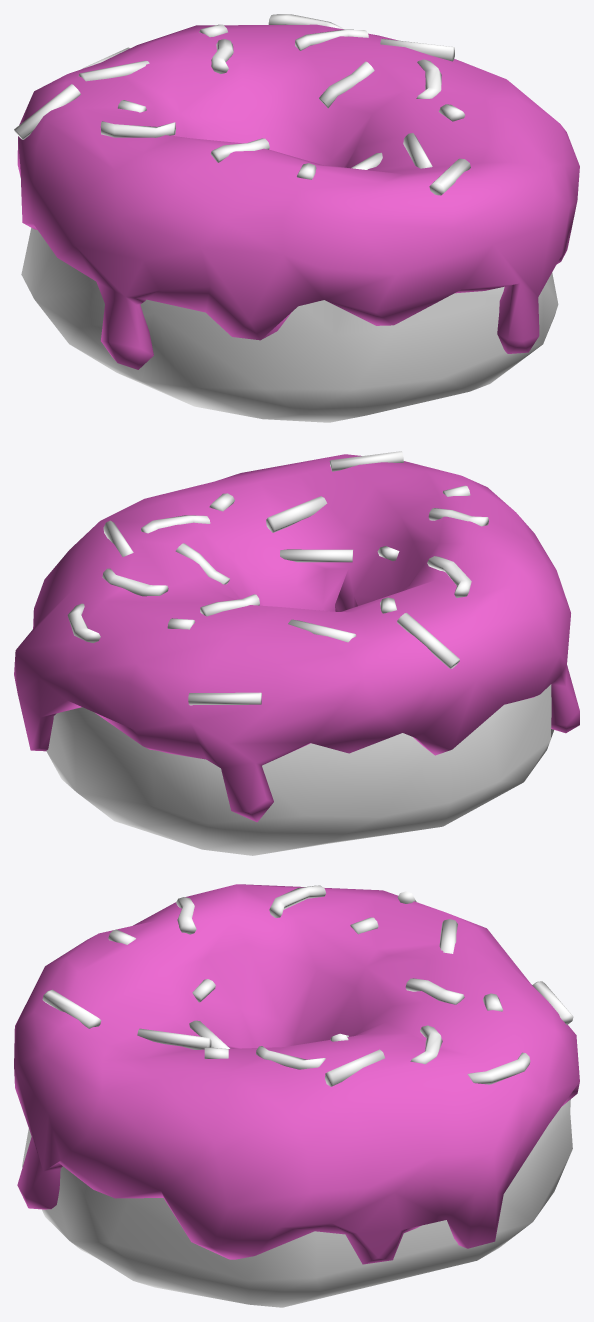
Rendered from donutlowpoly.glb.
3 views of the same model, one above another, from view 1: azimuth 30°, elevation 25°; view 2: azimuth 150°, elevation 25°; view 3: azimuth 270°, elevation 25° (orthographic). The views are drawn at different scales.
Visible parts, largest first — view 1: icing, donut, Sprinkle.006, Sprinkle.018, Sprinkle.014, Sprinkle.009, Sprinkle.011, Sprinkle.012, Sprinkle.005, Sprinkle.015, Sprinkle.007, Sprinkle.021 (+2 smaller); view 2: icing, donut, Sprinkle.018, Sprinkle.004, Sprinkle.013, Sprinkle.017, Sprinkle.011, Sprinkle.006, Sprinkle.005, Sprinkle.021, Sprinkle.015, Sprinkle.020 (+3 smaller); view 3: icing, donut, Sprinkle.004, Sprinkle.021, Sprinkle.005, Sprinkle.006, Sprinkle.009, Sprinkle.020, Sprinkle.015, Sprinkle.011, Sprinkle.007, Sprinkle.017.
Boxes of the visible parts, bbox=[...] form: icing: bbox=[17, 24, 579, 369]; donut: bbox=[21, 228, 558, 422]; Sprinkle.006: bbox=[100, 121, 175, 137]; Sprinkle.018: bbox=[14, 84, 80, 139]; Sprinkle.014: bbox=[319, 61, 374, 108]; Sprinkle.009: bbox=[380, 38, 454, 61]; Sprinkle.011: bbox=[295, 29, 368, 50]; Sprinkle.012: bbox=[78, 60, 149, 81]; Sprinkle.005: bbox=[429, 158, 470, 195]; Sprinkle.015: bbox=[416, 59, 441, 98]; Sprinkle.007: bbox=[210, 138, 269, 162]; Sprinkle.021: bbox=[268, 14, 342, 28]; icing: bbox=[14, 454, 579, 822]; donut: bbox=[46, 684, 553, 855]; Sprinkle.018: bbox=[397, 612, 459, 668]; Sprinkle.004: bbox=[266, 496, 327, 532]; Sprinkle.013: bbox=[280, 549, 353, 562]; Sprinkle.017: bbox=[188, 692, 261, 705]; Sprinkle.011: bbox=[102, 568, 168, 596]; Sprinkle.006: bbox=[427, 556, 471, 597]; Sprinkle.005: bbox=[329, 451, 403, 471]; Sprinkle.021: bbox=[67, 603, 100, 642]; Sprinkle.015: bbox=[141, 515, 210, 533]; Sprinkle.020: bbox=[200, 594, 259, 616]; icing: bbox=[14, 884, 579, 1264]; donut: bbox=[22, 1099, 572, 1307]; Sprinkle.004: bbox=[137, 1028, 211, 1049]; Sprinkle.021: bbox=[467, 1052, 530, 1084]; Sprinkle.005: bbox=[42, 989, 101, 1028]; Sprinkle.006: bbox=[269, 885, 326, 917]; Sprinkle.009: bbox=[325, 1049, 384, 1086]; Sprinkle.020: bbox=[405, 978, 464, 1004]; Sprinkle.015: bbox=[256, 1046, 325, 1069]; Sprinkle.011: bbox=[410, 1025, 442, 1064]; Sprinkle.007: bbox=[176, 897, 196, 934]; Sprinkle.017: bbox=[532, 981, 573, 1024].
Bounding box in the file's own units: 0.028 × 0.0143 × 0.0278.
